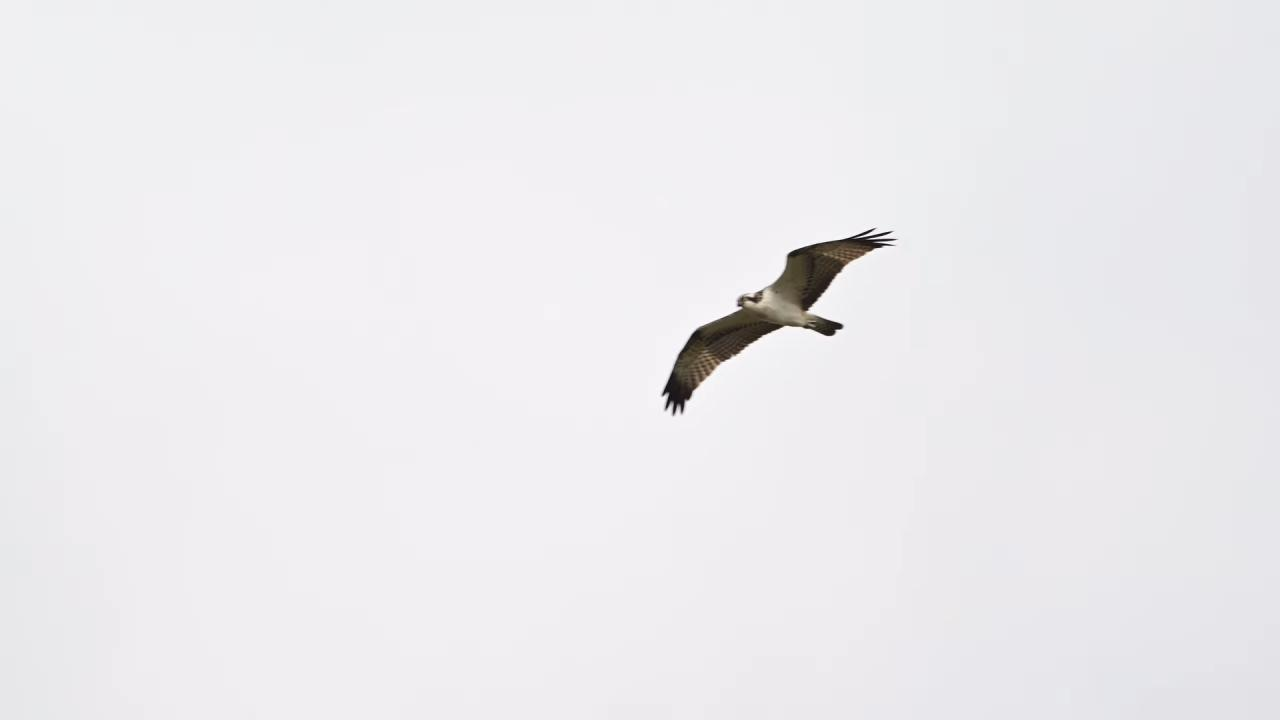Bird: (648, 212, 908, 428)
